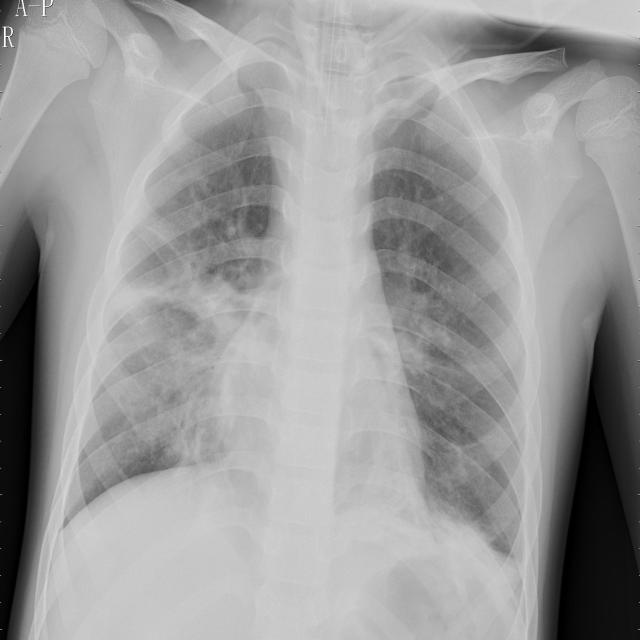low-pneumonia: (133, 248, 250, 359), (392, 244, 450, 390)
